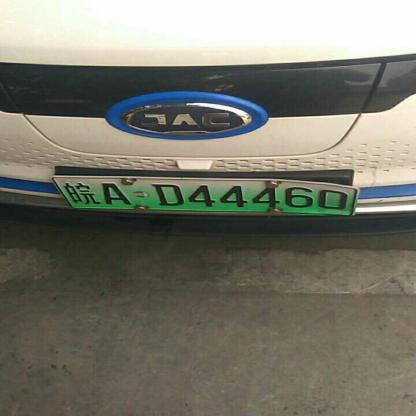lp: (52, 177, 74, 213)
